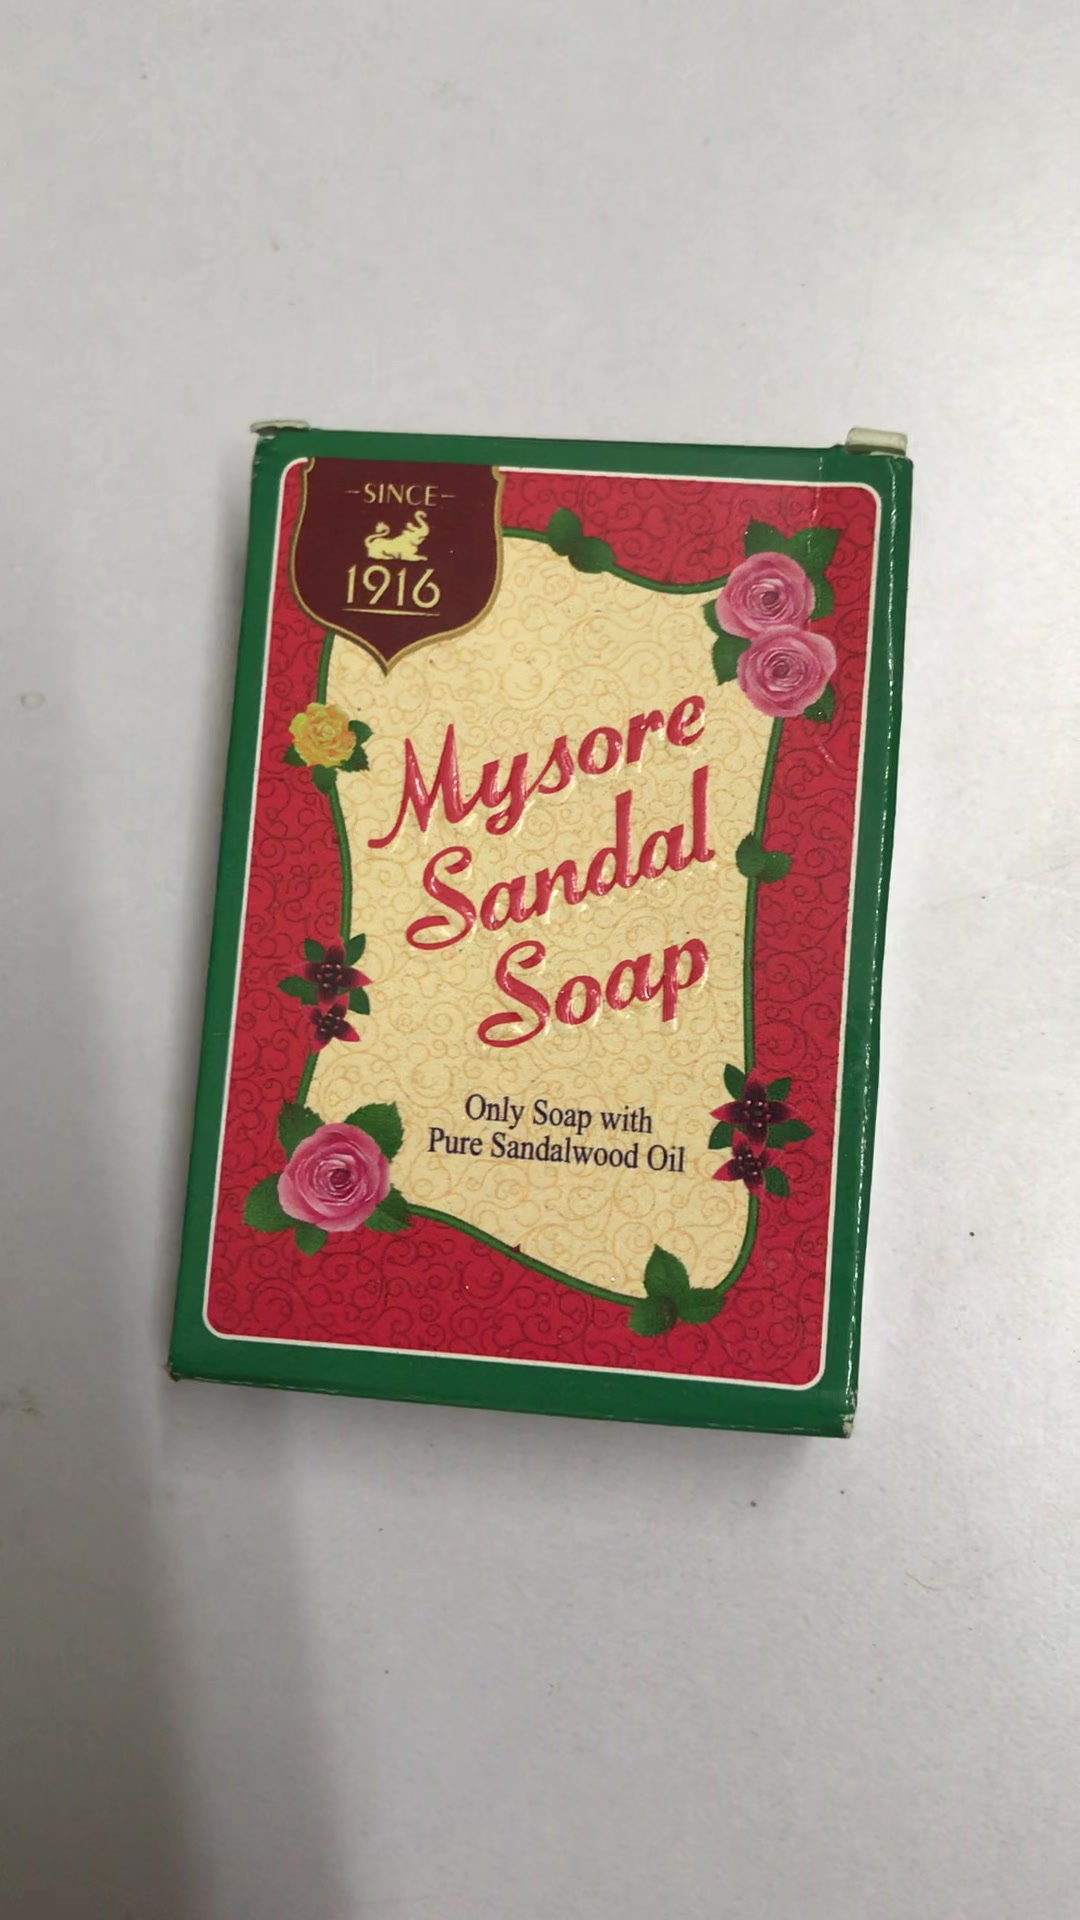mysore sandal soap: (160, 417, 858, 1444)
